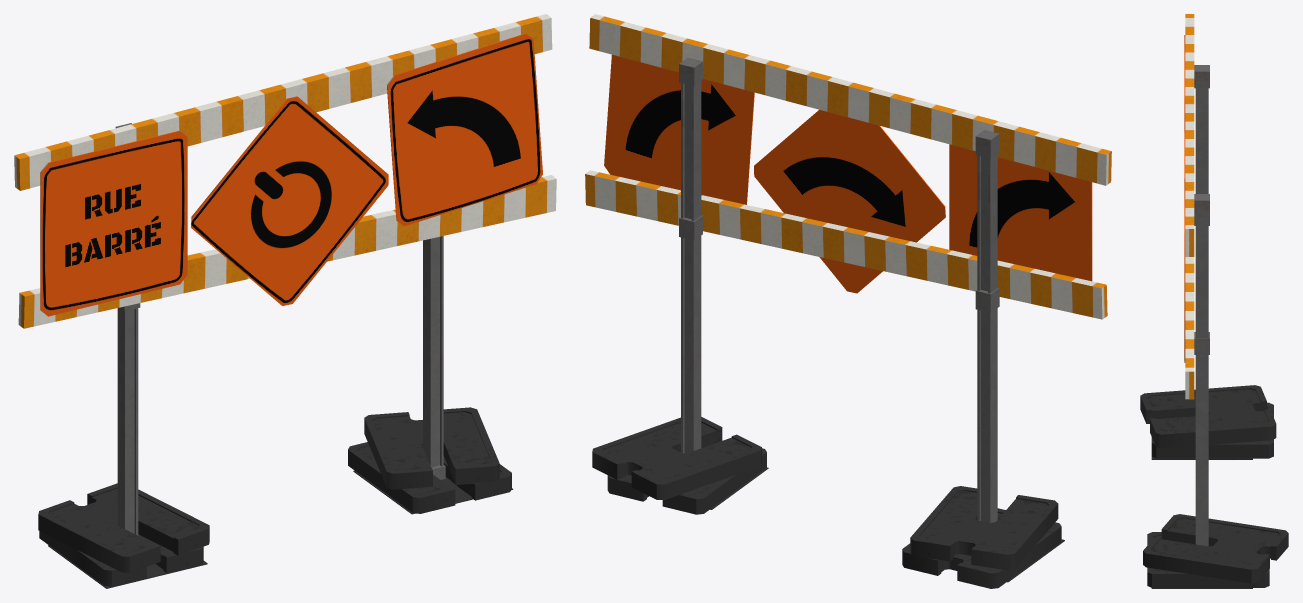
The model's file is SM_Roadsign_Big_01.glb.
The picture shows the model from 3 angles, left to right: view 1: azimuth 30°, elevation 25°; view 2: azimuth 150°, elevation 25°; view 3: azimuth 270°, elevation 25°; orthographic projection. The views are drawn at different scales.
Visible parts, largest first — view 1: sign_01, sign_03, sign_02, wood_02, wood_01, weight_01, weight_03, stand_01, stand_02, weight_04, weight_02; view 2: wood_02, wood_01, sign_02, sign_03, sign_01, stand_02, stand_01, weight_03, weight_01, weight_02, weight_04; view 3: weight_03, weight_01, stand_02, wood_02, stand_01, weight_02, weight_04, wood_01, sign_03.
Part boxes in pixels (<box>): sign_01: <box>40,130,187,316</box>; sign_03: <box>387,33,542,225</box>; sign_02: <box>191,96,388,305</box>; wood_02: <box>14,14,552,190</box>; wood_01: <box>18,175,556,328</box>; weight_01: <box>38,483,209,572</box>; weight_03: <box>364,407,499,489</box>; stand_01: <box>48,123,207,588</box>; stand_02: <box>353,236,513,514</box>; weight_04: <box>348,442,511,513</box>; weight_02: <box>39,531,203,586</box>; wood_02: <box>589,14,1111,185</box>; wood_01: <box>585,170,1107,319</box>; sign_02: <box>754,110,945,293</box>; sign_03: <box>604,54,754,204</box>; sign_01: <box>949,144,1092,281</box>; stand_02: <box>679,57,768,509</box>; stand_01: <box>975,130,1064,582</box>; weight_03: <box>592,417,761,500</box>; weight_01: <box>910,486,1058,570</box>; weight_02: <box>902,508,1061,588</box>; weight_04: <box>607,448,766,514</box>; weight_03: <box>1143,514,1288,583</box>; weight_01: <box>1140,385,1276,448</box>; stand_02: <box>1151,194,1252,588</box>; wood_02: <box>1185,14,1194,256</box>; stand_01: <box>1151,65,1252,459</box>; weight_02: <box>1151,402,1273,458</box>; weight_04: <box>1147,532,1269,587</box>; wood_01: <box>1185,257,1194,399</box>; sign_03: <box>1184,178,1185,362</box>.
Bounding box in the file's own units: 4.61 × 3.63 × 1.27.
Materials: 1 (1 with a texture image).
